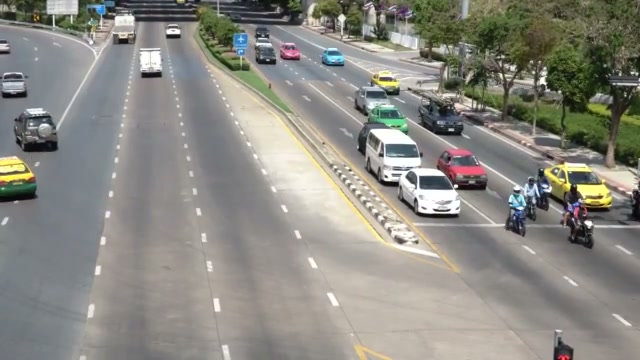bus: (112, 12, 136, 44)
car: (397, 168, 461, 217), (436, 148, 488, 190), (13, 107, 58, 151), (417, 93, 464, 135), (0, 155, 38, 198), (356, 121, 401, 156), (367, 104, 409, 133), (353, 85, 388, 115), (370, 70, 401, 96), (0, 72, 28, 98), (255, 43, 277, 64), (321, 48, 344, 66), (280, 43, 301, 60), (165, 24, 182, 39), (0, 39, 11, 54)
motorcycle: (565, 207, 595, 249), (505, 205, 527, 236)
pedestrian: (562, 182, 588, 233), (507, 185, 528, 226), (524, 177, 539, 215)
truck: (364, 126, 423, 185), (543, 162, 614, 209), (417, 91, 464, 134), (112, 12, 136, 44)
